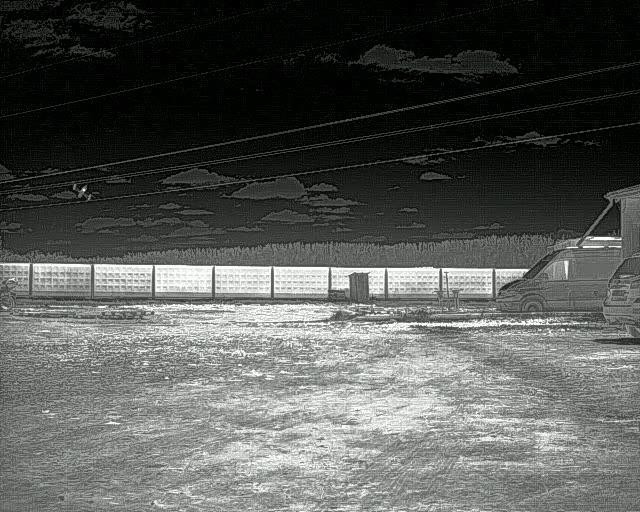drone-thermal: (69, 179, 99, 204)
